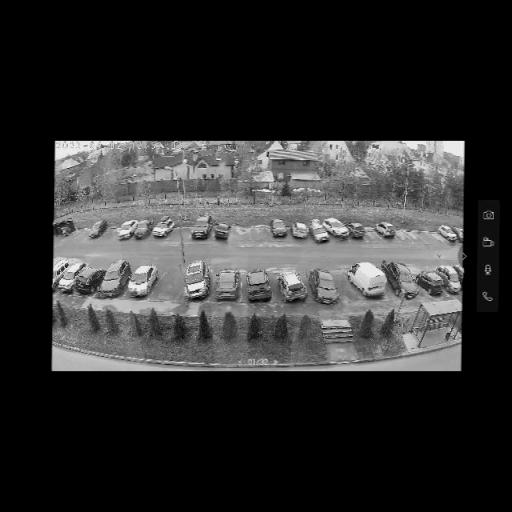busy: (347, 262, 392, 300), (176, 260, 216, 302), (97, 260, 137, 300), (118, 265, 161, 298), (210, 267, 246, 303), (385, 263, 421, 299), (75, 265, 111, 300), (309, 268, 342, 306), (241, 269, 276, 304), (53, 258, 85, 292), (278, 270, 311, 302), (417, 270, 450, 295), (116, 218, 150, 241), (312, 218, 342, 244), (321, 218, 349, 242), (441, 266, 464, 294), (208, 220, 236, 242), (150, 216, 177, 238), (191, 216, 213, 242), (84, 220, 111, 239), (434, 226, 461, 244), (267, 220, 292, 239), (54, 218, 77, 238), (373, 222, 399, 239), (347, 222, 371, 240), (289, 221, 310, 240)
free: (159, 268, 185, 303), (229, 222, 250, 246), (251, 222, 268, 246), (363, 225, 379, 244), (393, 230, 410, 247), (408, 228, 420, 246), (174, 228, 189, 240), (106, 229, 121, 240), (432, 232, 443, 244), (68, 228, 77, 242), (421, 233, 431, 244), (81, 228, 88, 241)
